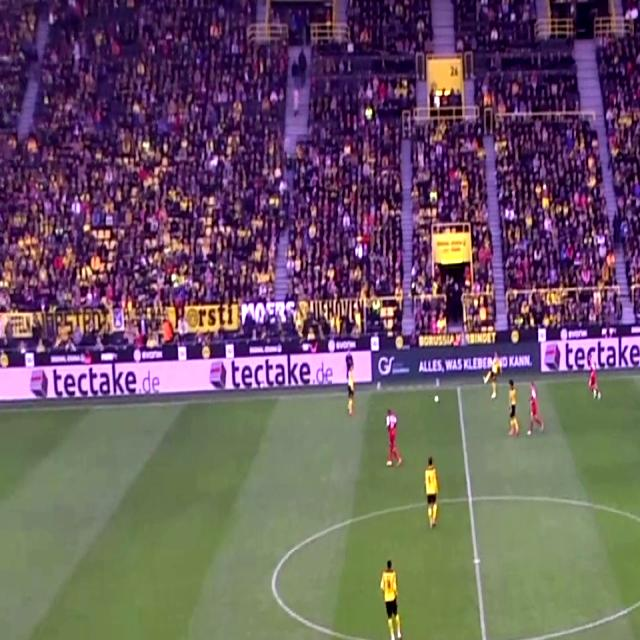ball: (432, 379, 444, 407)
soccer-player: (379, 546, 411, 640), (422, 453, 442, 540), (381, 403, 404, 472), (344, 354, 361, 418), (485, 344, 504, 400), (528, 376, 544, 442), (504, 380, 521, 442), (585, 343, 601, 402)
